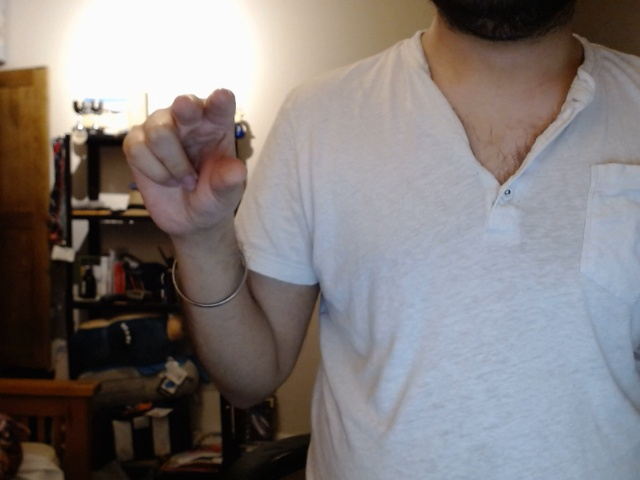No: (124, 72, 266, 242)
